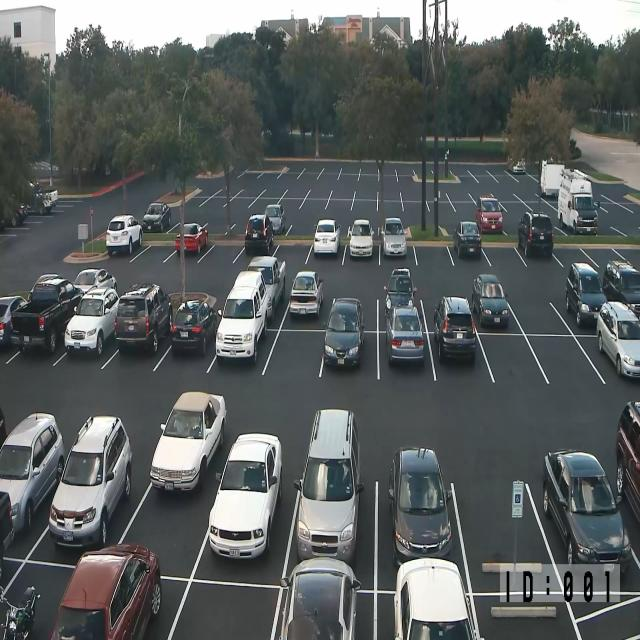car: (542, 449, 632, 573), (293, 407, 364, 564), (49, 414, 132, 548), (50, 543, 162, 639), (208, 432, 282, 560), (0, 412, 65, 536), (149, 390, 227, 492), (388, 445, 452, 566), (394, 556, 484, 640), (270, 556, 361, 639), (11, 273, 84, 354), (215, 270, 270, 362), (114, 282, 172, 354), (64, 286, 119, 356), (596, 300, 640, 378), (615, 399, 640, 524), (323, 296, 365, 368), (433, 295, 476, 363), (565, 261, 607, 327), (170, 298, 217, 356), (558, 169, 598, 235), (247, 256, 286, 322), (384, 304, 425, 365), (602, 258, 640, 318), (0, 584, 41, 639), (472, 274, 509, 328), (518, 210, 554, 258), (383, 267, 417, 315), (289, 270, 323, 317), (106, 214, 142, 255), (0, 294, 27, 348), (0, 489, 15, 576), (73, 268, 118, 296), (244, 212, 273, 254), (174, 222, 208, 254), (454, 220, 482, 258), (475, 196, 503, 234), (348, 218, 374, 258), (313, 218, 341, 255), (381, 216, 406, 257), (142, 202, 171, 232), (264, 203, 286, 235), (11, 203, 28, 227), (30, 160, 58, 172), (0, 407, 7, 452), (42, 188, 58, 207), (512, 158, 526, 174)
